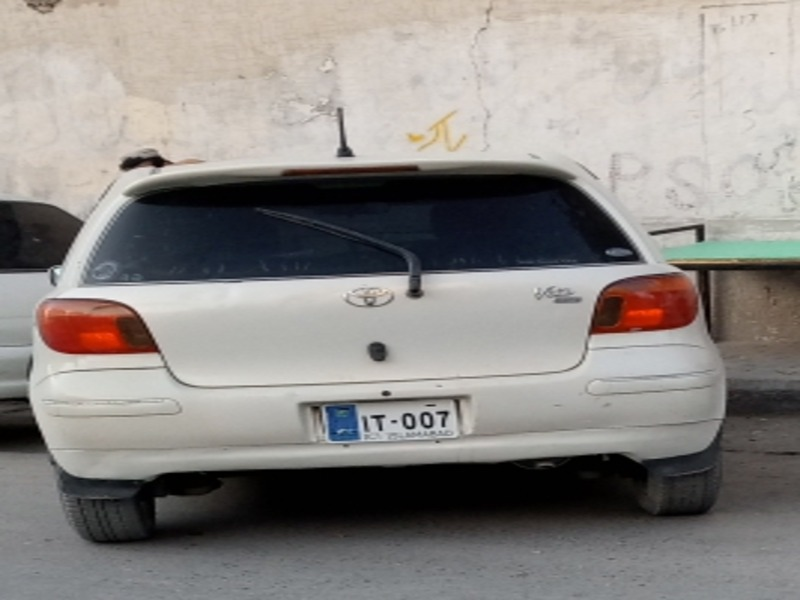License Plate: (321, 398, 462, 444)
